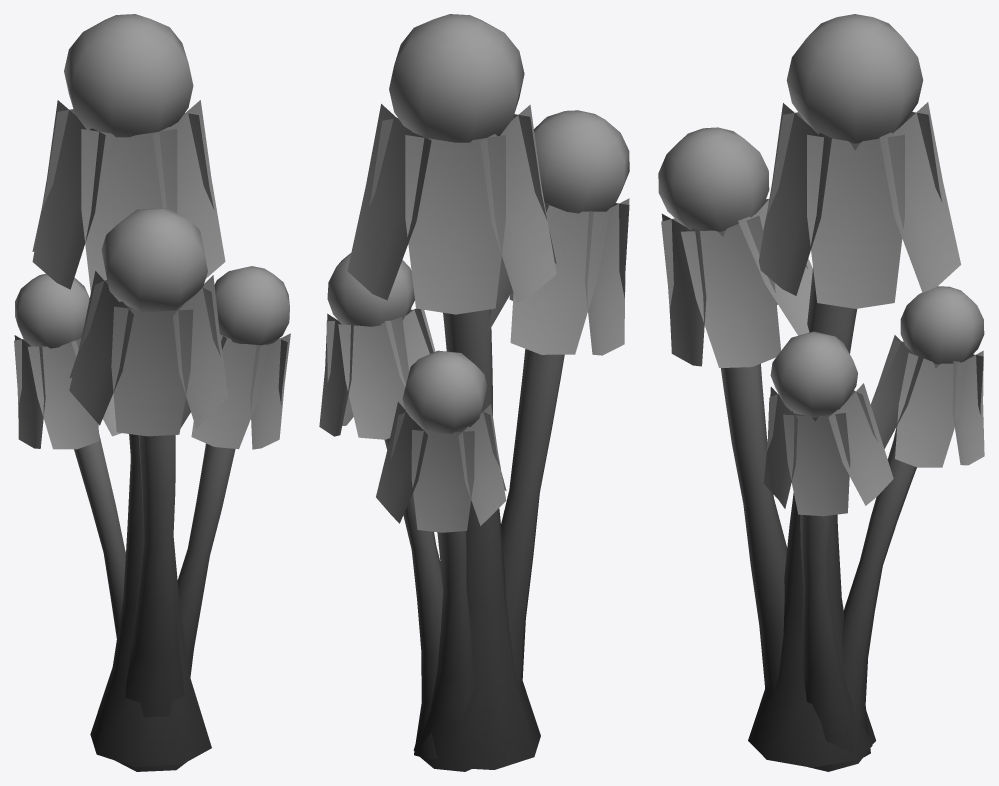
File: BerryGrown_MESH_01.fbx
The picture shows the model from 3 angles, left to right: view 1: azimuth 30°, elevation 25°; view 2: azimuth 150°, elevation 25°; view 3: azimuth 270°, elevation 25°; orthographic projection. The views are drawn at different scales.
Parts seen in each view (by area): view 1: BerryGrown_MESH_01; view 2: BerryGrown_MESH_01; view 3: BerryGrown_MESH_01.
Boxes of the visible parts, box(x1,y1,x2,y2) form: BerryGrown_MESH_01: box(14, 14, 290, 771); BerryGrown_MESH_01: box(319, 14, 629, 771); BerryGrown_MESH_01: box(658, 14, 984, 771).
Bounding box in the file's own units: 43.86 × 129 × 52.36.
